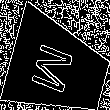M_E: (33, 38, 84, 98)
